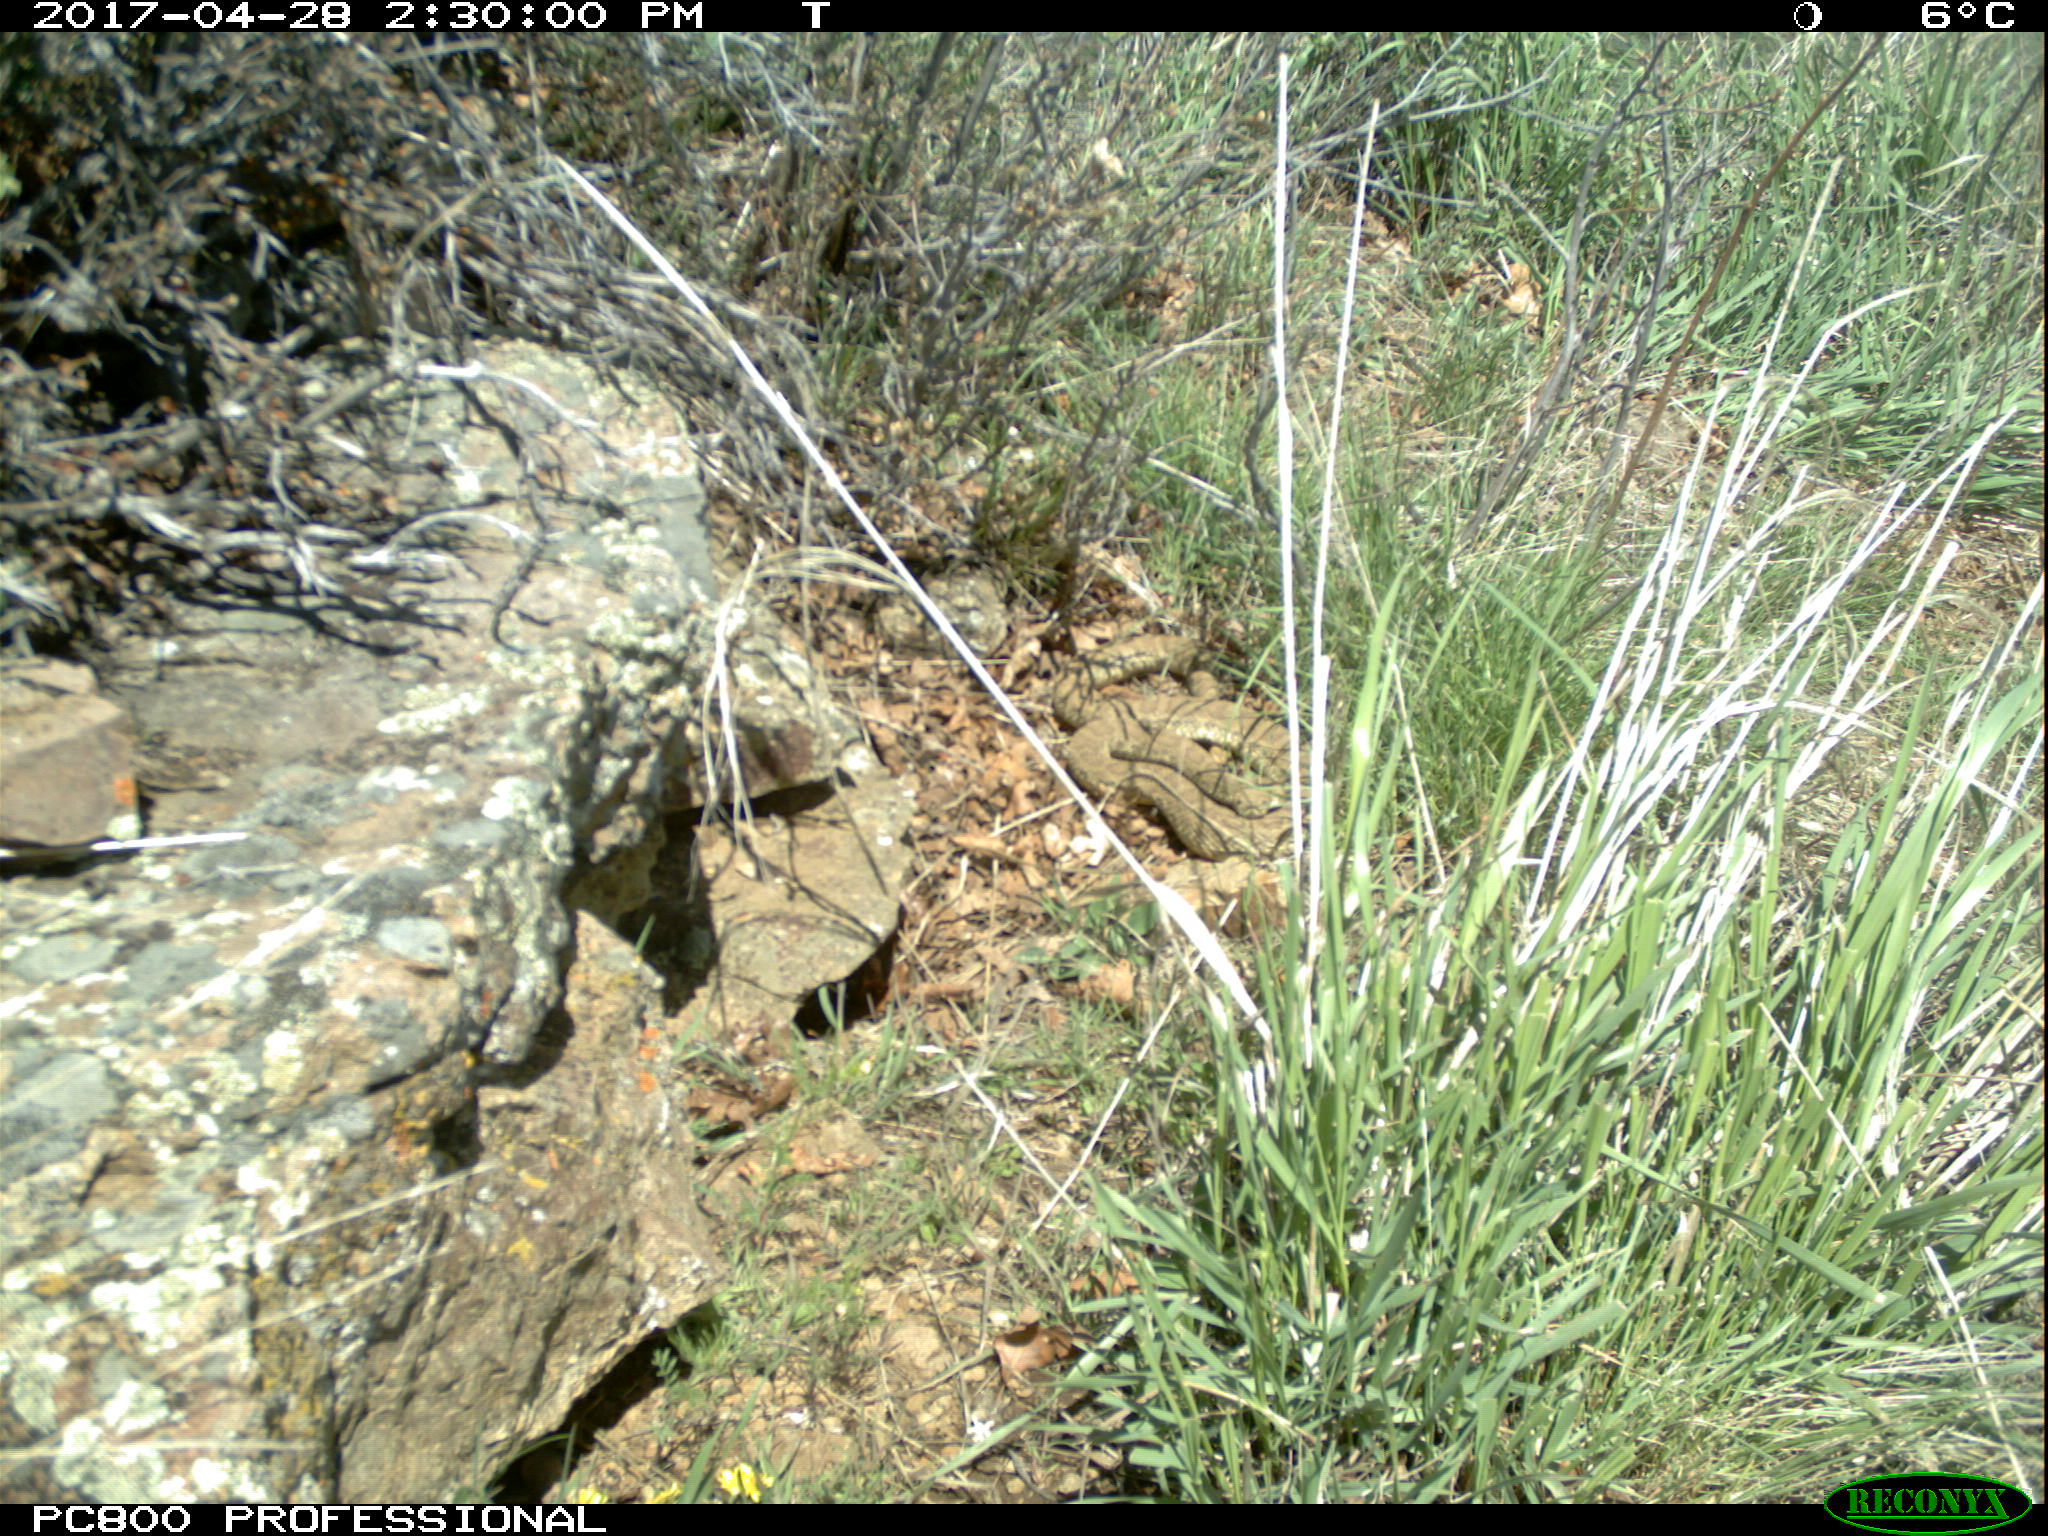snake: (1055, 641, 1314, 862)
